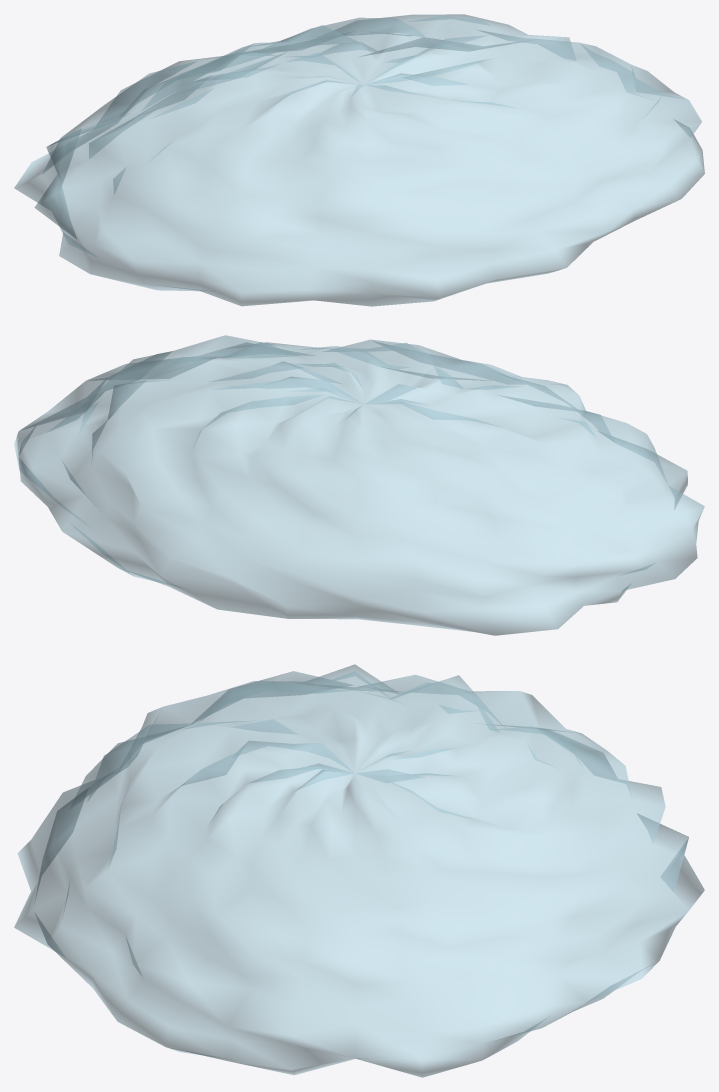
File: alpine-and-arctic-biomes-blue-ice-slab-4a692b38__21041.glb
The picture shows the model from 3 angles, top to bottom: view 1: azimuth 30°, elevation 25°; view 2: azimuth 150°, elevation 25°; view 3: azimuth 270°, elevation 25°; orthographic projection. The views are drawn at different scales.
Visible parts, largest first — view 1: blue-ice-slab; view 2: blue-ice-slab; view 3: blue-ice-slab.
Boxes of the visible parts, x1,y1,x2,y2 form: blue-ice-slab: [14, 14, 704, 306]; blue-ice-slab: [14, 335, 704, 635]; blue-ice-slab: [14, 664, 704, 1077].
Bounding box in the file's own units: 3.06 × 0.5891 × 2.42.
